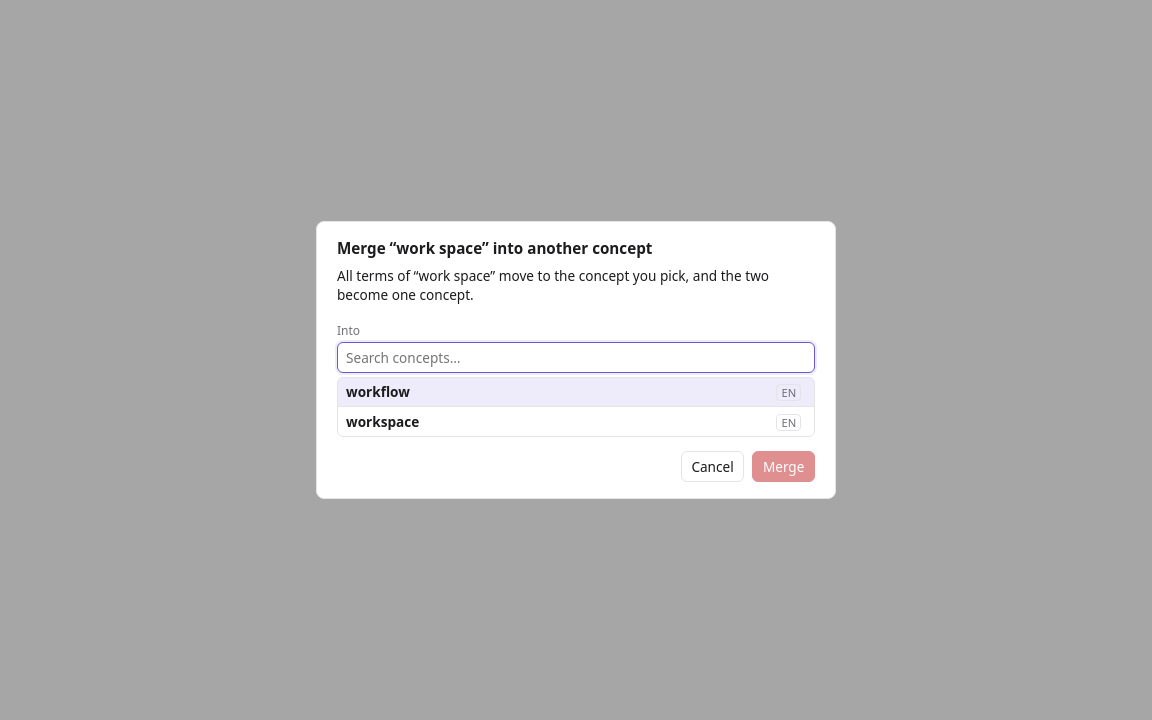
MergeDialog › requests a preview for the picked target
Click the option "workspace EN" at (383, 421), box [338,407,814,436]
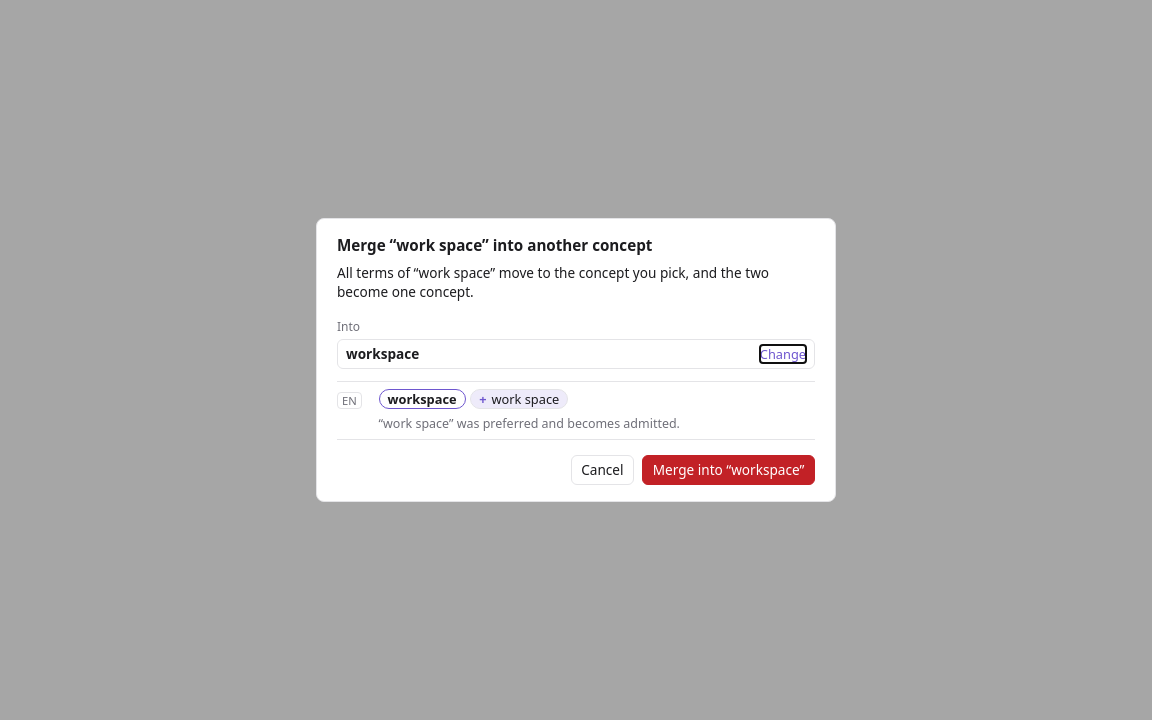
expect the button "Merge into “workspace”" is enabled: met, box [642,455,815,485]
